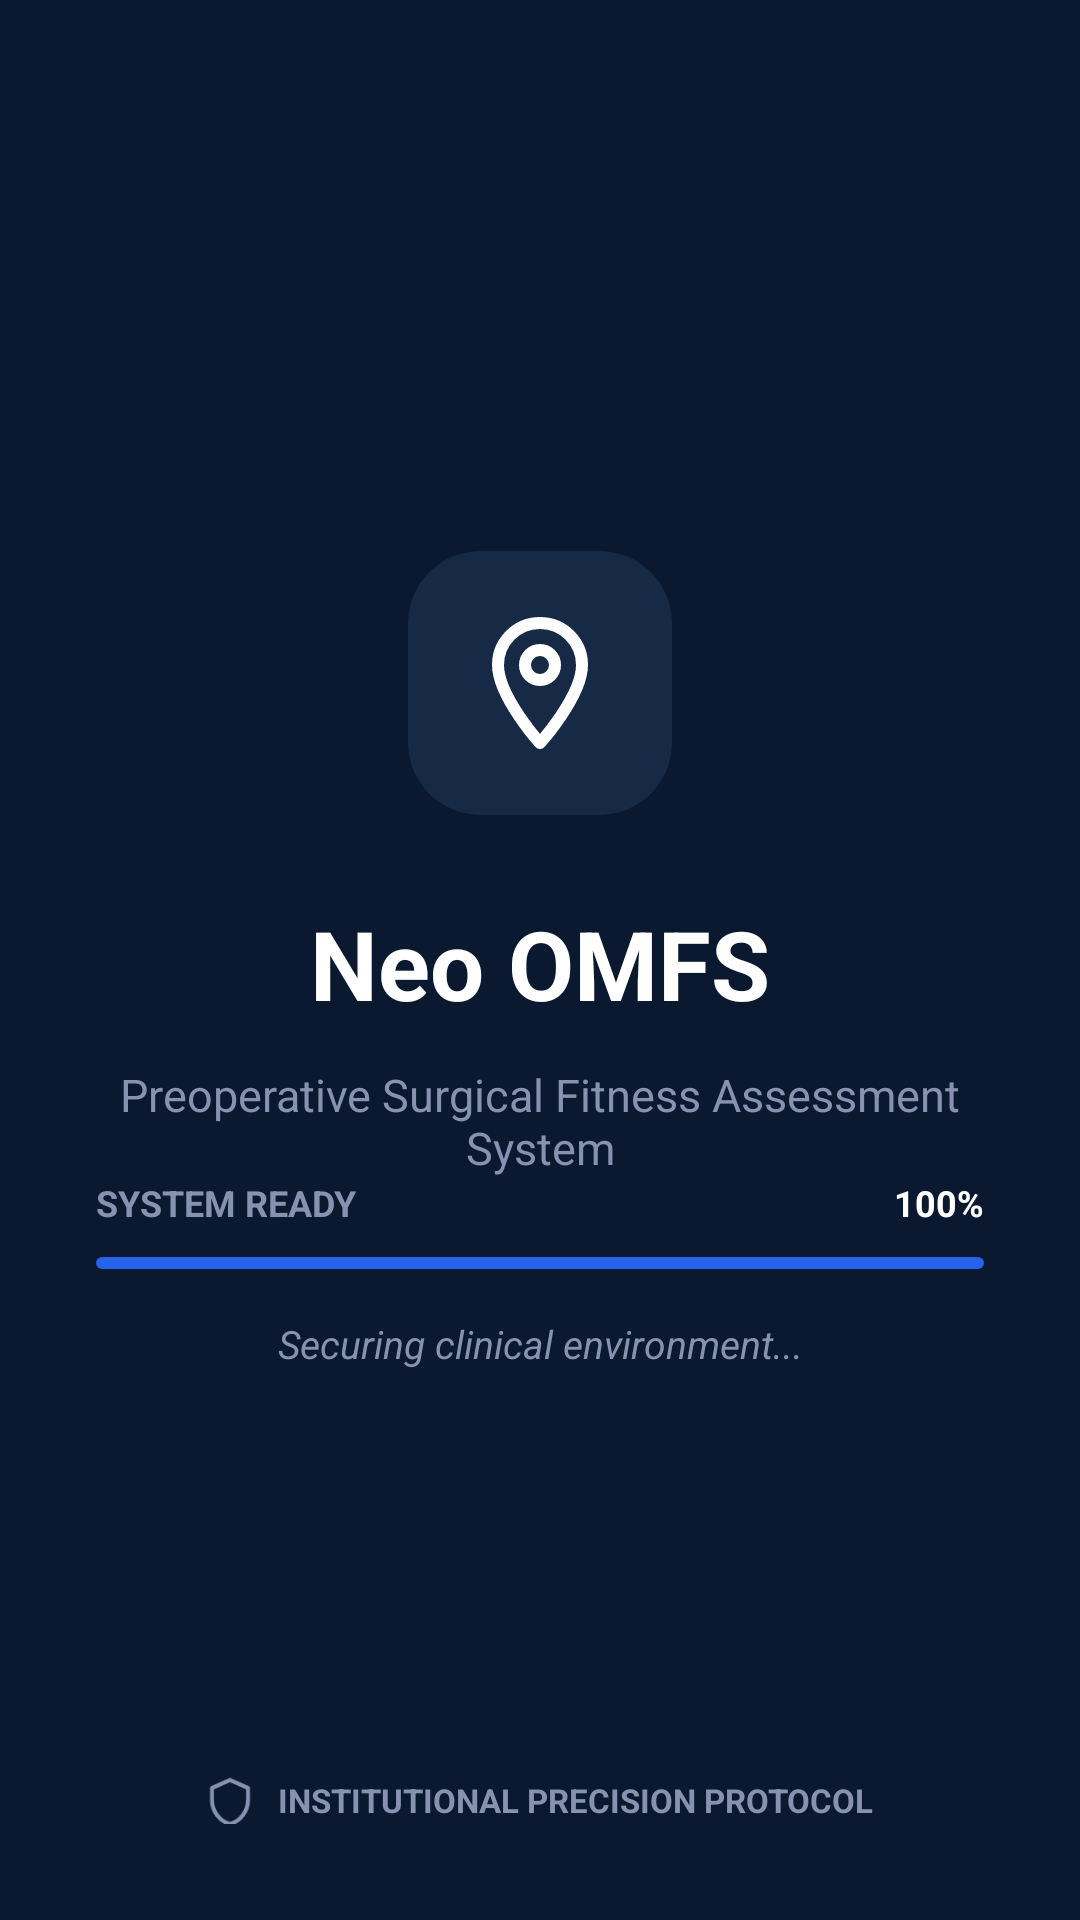

Where to tap for icons on this 1080w x 1920h app screen, as point (x, y):
shield: point (230, 1801)
